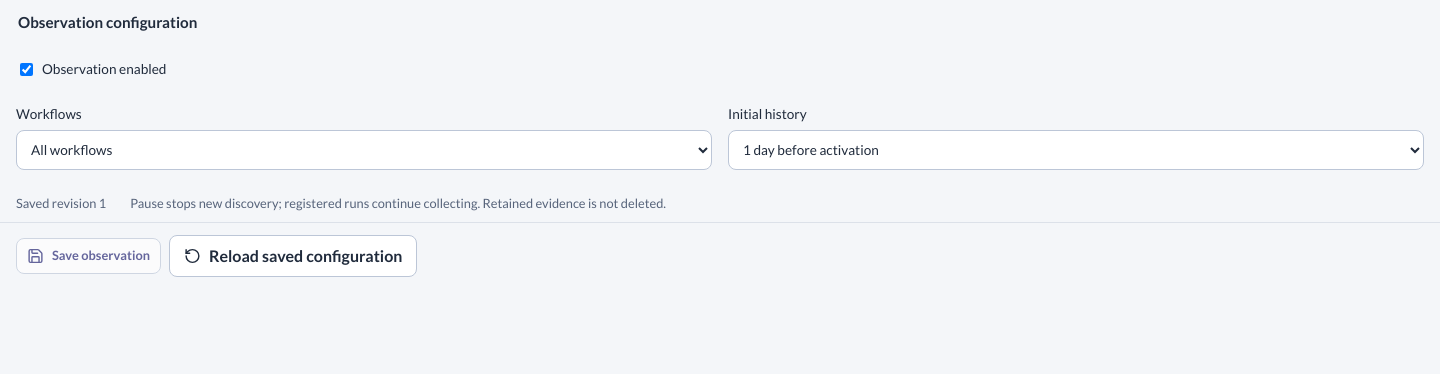
a rejected capacity_reached write cannot repeat without explicit reload
The width and height of the screenshot is (1440, 374).
Click the checkbox labelled "Observation enabled". click: (26, 69)
box: [20,63,33,76]
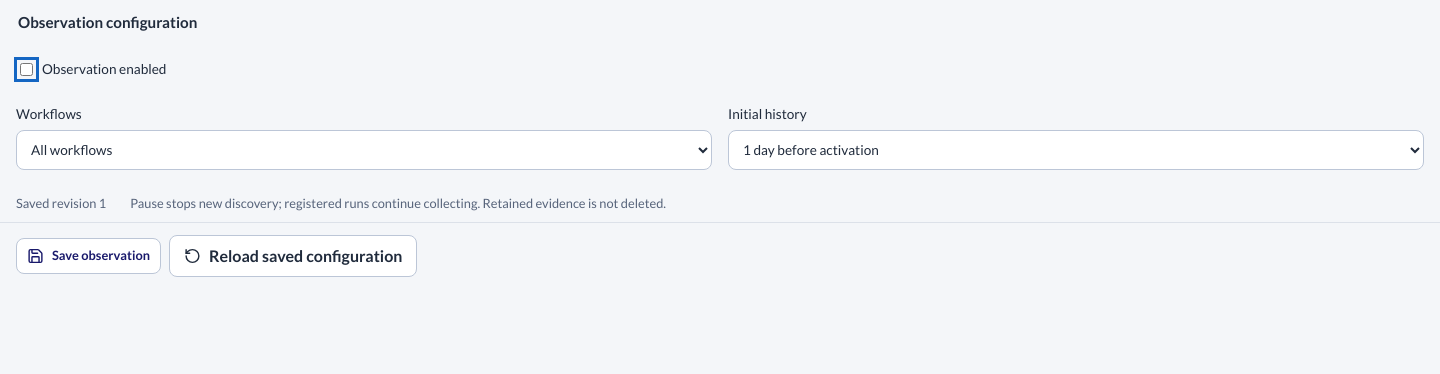
Click the button "Save observation". click: (88, 256)
box: [16,238,161,274]
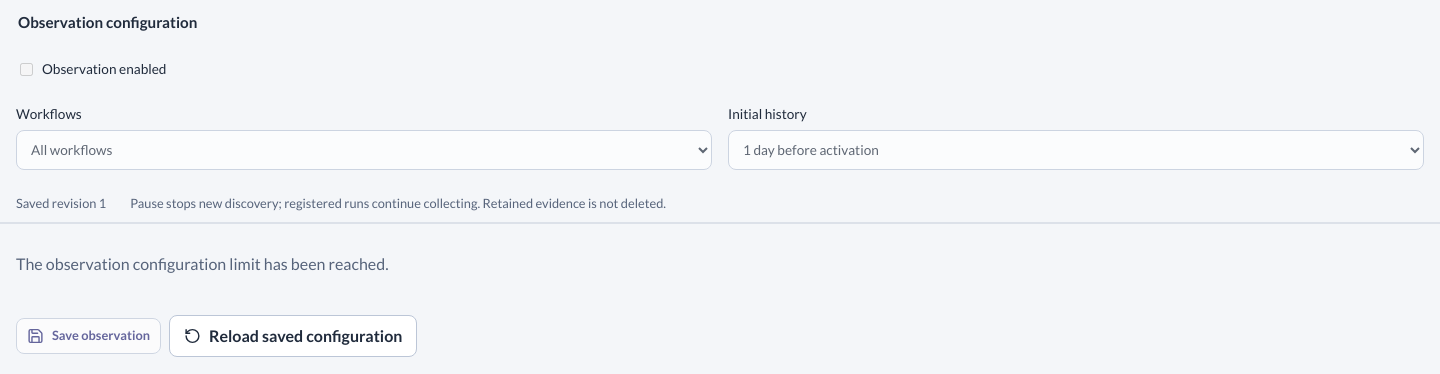
Result: the message "The observation configuration limit has been reached." is shown at [0,223,1439,303]
Result: the button "Save observation" is disabled at [16,318,161,354]
